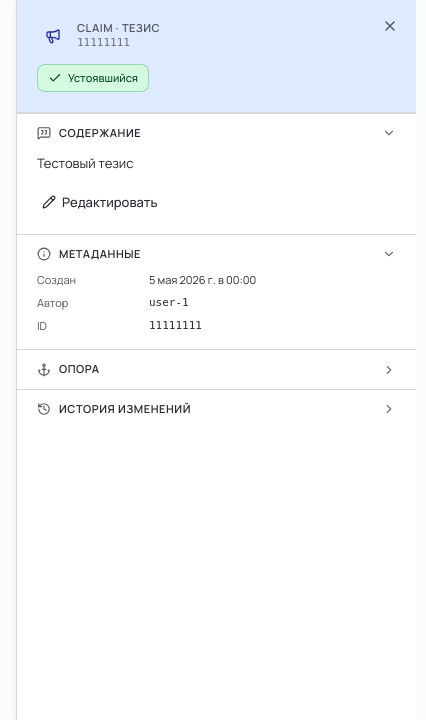
Test: NodeDetailsPanel › ошибка GET показывает сообщение об ошибке
Click the button "История изменений": point(125, 409) 17,390 -> 416,429
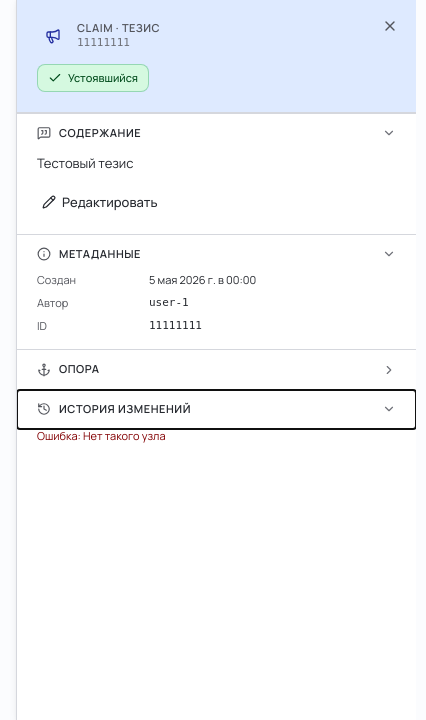
Now the text "Ошибка: Нет такого узла" is shown, box 37,428 -> 166,443
